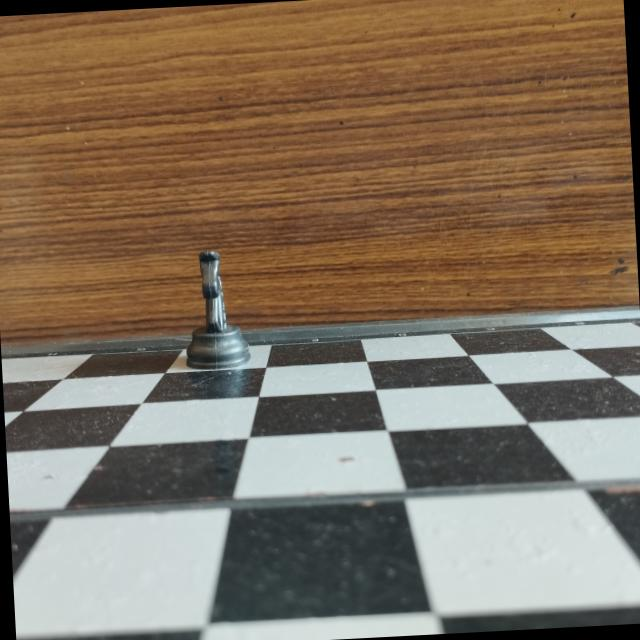Black Knight: (174, 236, 256, 378)
